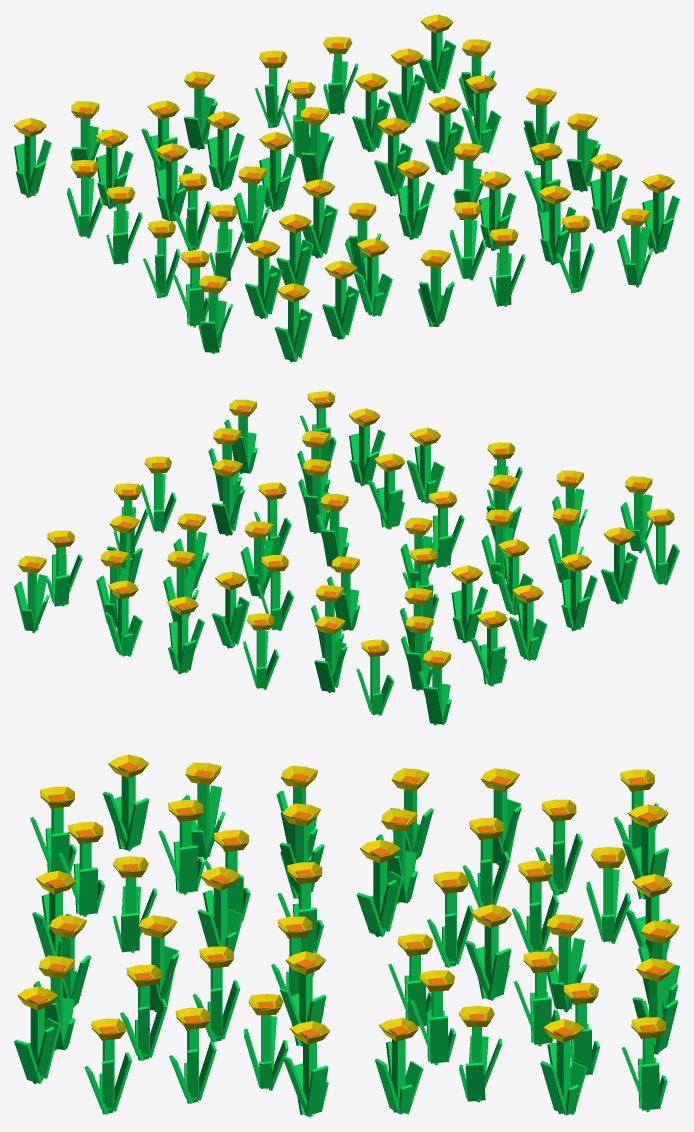
The model's file is DandelionFlowerPatch.fbx.
The picture shows the model from 3 angles, top to bottom: view 1: azimuth 30°, elevation 25°; view 2: azimuth 150°, elevation 25°; view 3: azimuth 270°, elevation 25°; orthographic projection. The views are drawn at different scales.
Visible parts, largest first — view 1: Cube.003; view 2: Cube.003; view 3: Cube.003.
Boxes of the visible parts, x1=… form: Cube.003: x1=14, y1=14, x2=679, y2=362; Cube.003: x1=14, y1=391, x2=679, y2=725; Cube.003: x1=14, y1=754, x2=679, y2=1117.
Bounding box in the file's own units: 189 × 28 × 186.
